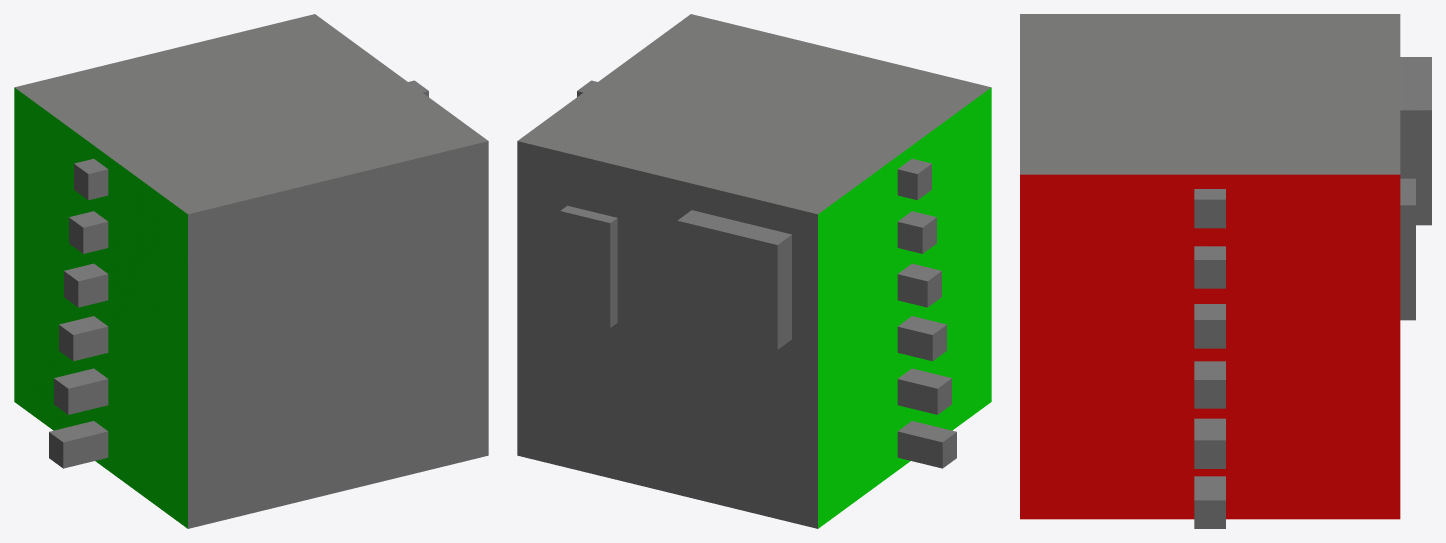
File: BG_ColorBleedTest00_SM.FBX
The picture shows the model from 3 angles, left to right: view 1: azimuth 30°, elevation 25°; view 2: azimuth 150°, elevation 25°; view 3: azimuth 270°, elevation 25°; orthographic projection. The views are drawn at different scales.
Parts seen in each view (by area): view 1: Box001, Box004, Box006, Box005, Box007, Box008, Box009; view 2: Box001, Box003, Box002, Box004, Box006, Box005, Box007, Box008, Box009; view 3: Box001, Box003, Box002, Box010, Box011, Box012, Box013, Box014, Box015.
Part boxes in pixels (<box>): Box001: <box>14,14,488,528</box>; Box004: <box>49,421,108,468</box>; Box006: <box>54,368,108,414</box>; Box005: <box>59,316,108,361</box>; Box007: <box>64,263,108,307</box>; Box008: <box>69,211,108,253</box>; Box009: <box>74,158,108,200</box>; Box001: <box>517,14,991,528</box>; Box003: <box>677,210,791,349</box>; Box002: <box>560,205,617,327</box>; Box004: <box>897,421,956,468</box>; Box006: <box>897,368,951,414</box>; Box005: <box>897,316,946,361</box>; Box007: <box>897,263,941,307</box>; Box008: <box>897,211,936,253</box>; Box009: <box>897,158,931,200</box>; Box001: <box>1020,14,1400,519</box>; Box003: <box>1400,57,1431,225</box>; Box002: <box>1400,178,1415,320</box>; Box010: <box>1194,476,1225,528</box>; Box011: <box>1194,418,1225,468</box>; Box012: <box>1194,361,1225,408</box>; Box013: <box>1194,304,1225,348</box>; Box014: <box>1194,246,1225,288</box>; Box015: <box>1194,189,1225,228</box>.
Size of the model in its own units: 78 by 60 by 65.
Materials: 1 (1 with a texture image).
